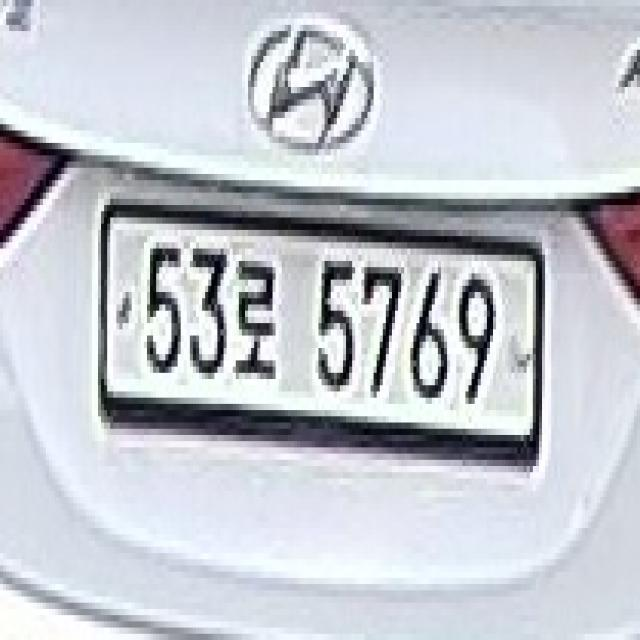3: (184, 236, 226, 404)
5: (309, 255, 362, 404), (134, 224, 180, 392)
6: (404, 261, 453, 416)
7: (355, 243, 407, 417)
9: (459, 261, 499, 422)
license_plate: (89, 180, 551, 491)
lo: (227, 249, 276, 385)
